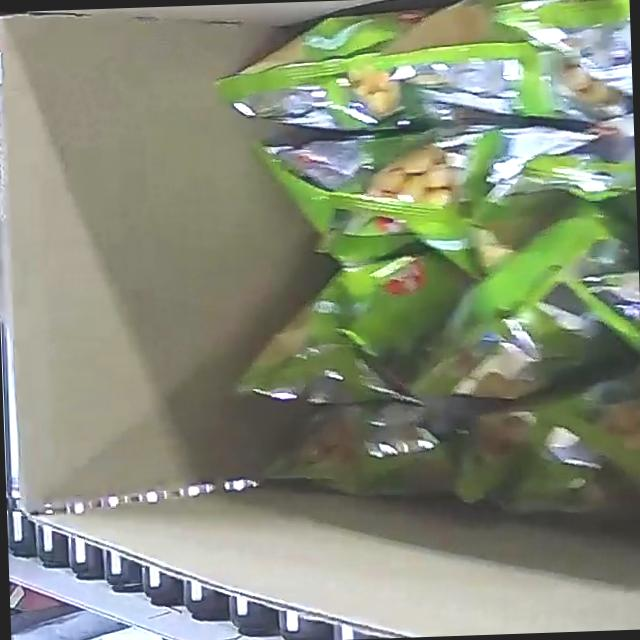yogurt: (207, 0, 640, 600)
